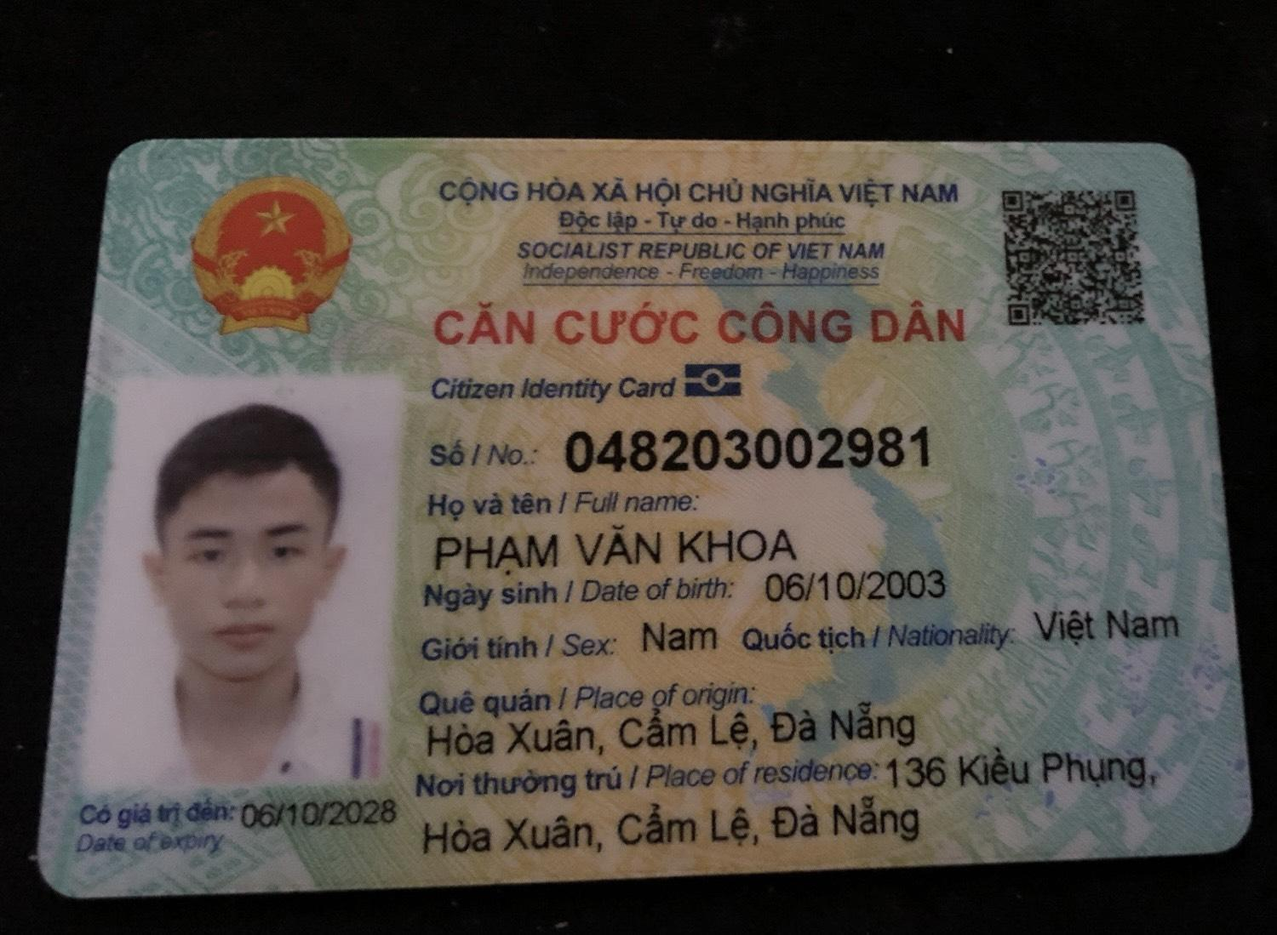ID: (557, 409, 959, 483)
birth: (752, 560, 955, 611)
name: (424, 513, 808, 579)
place: (412, 696, 930, 765)
residence: (400, 792, 934, 870), (879, 739, 1170, 804)
